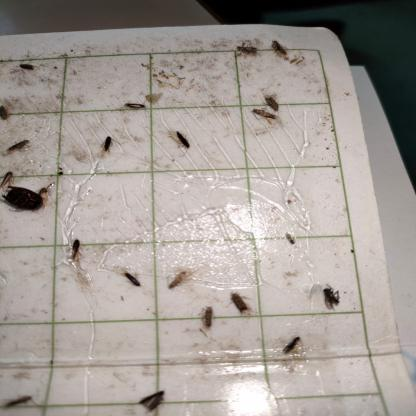prays_oleae: (315, 269, 342, 324), (226, 286, 253, 339), (161, 265, 195, 303), (166, 124, 196, 165), (279, 324, 304, 370), (119, 263, 149, 301), (0, 131, 34, 164), (0, 386, 39, 414), (139, 382, 169, 412), (232, 35, 258, 68), (68, 229, 86, 271), (202, 294, 219, 336), (249, 106, 280, 129), (97, 125, 117, 160), (269, 36, 289, 68), (121, 98, 150, 120), (18, 58, 40, 85), (1, 101, 19, 127), (266, 90, 281, 116), (0, 170, 16, 192)
